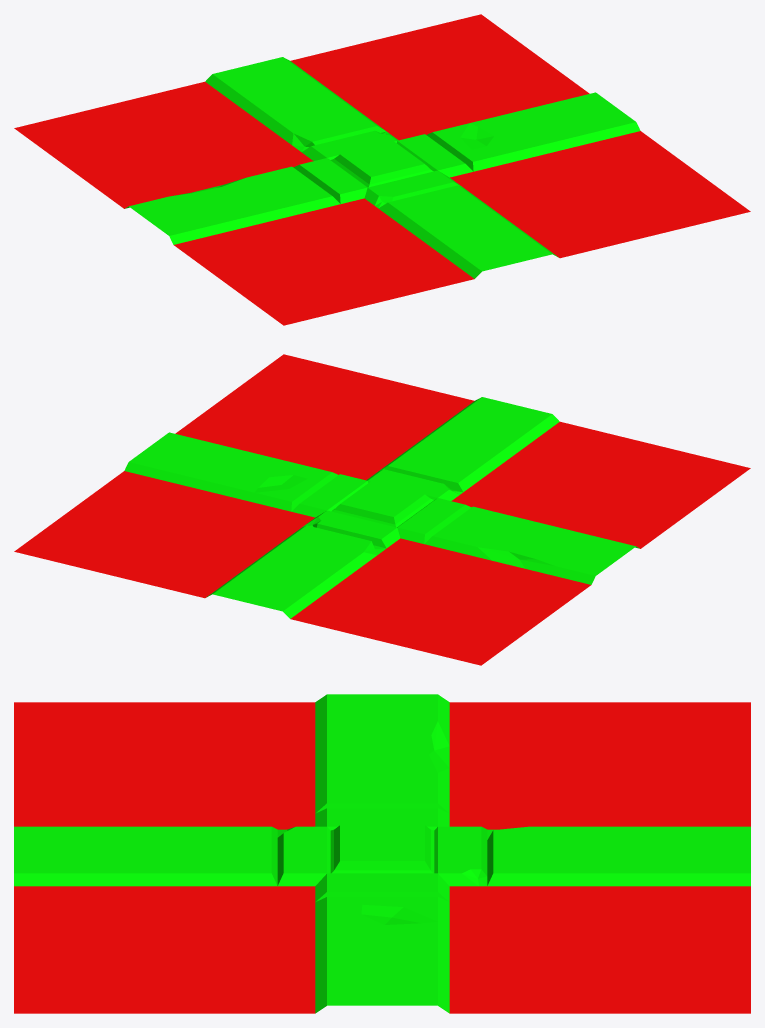
Rendered from dungeon_stairs_fill.fbx.
3 renders of one model, top to bottom at view 1: azimuth 30°, elevation 25°; view 2: azimuth 150°, elevation 25°; view 3: azimuth 270°, elevation 25°, orthographic. The views are drawn at different scales.
Parts seen in each view (by area): view 1: dungeon_stairs_fill; view 2: dungeon_stairs_fill; view 3: dungeon_stairs_fill.
Part boxes in pixels (x1=…): dungeon_stairs_fill: x1=14, y1=14, x2=750, y2=325; dungeon_stairs_fill: x1=14, y1=354, x2=750, y2=665; dungeon_stairs_fill: x1=14, y1=694, x2=750, y2=1013.
Size of the model in its own units: 200 by 200 by 4.42.
